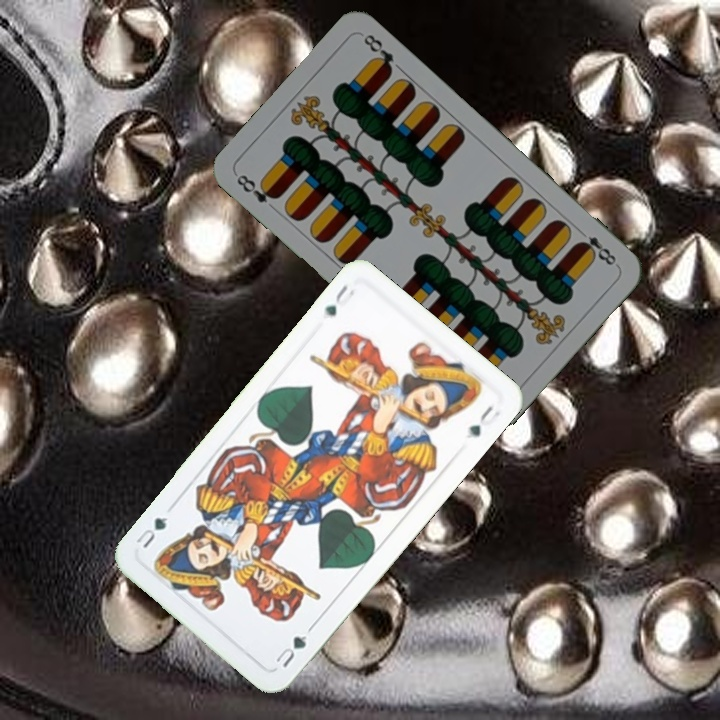E8: (573, 224, 621, 269), (232, 170, 282, 206)
GU: (271, 631, 310, 670), (320, 280, 357, 319)
